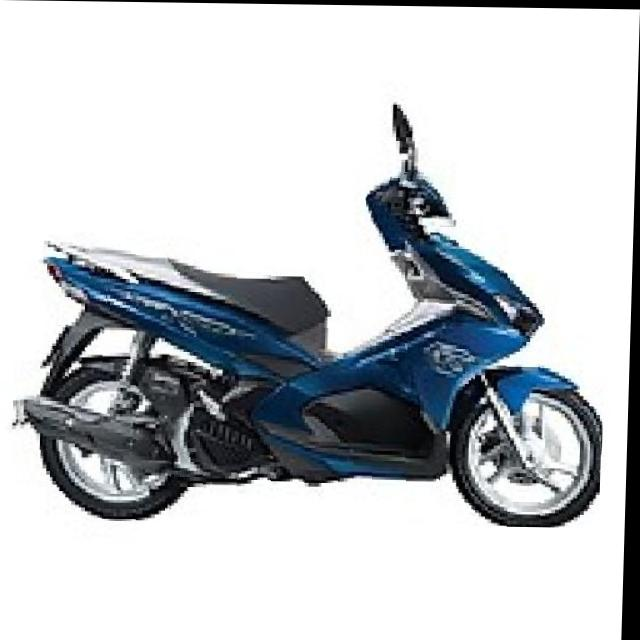All: (10, 162, 610, 527)
Head: (366, 169, 460, 224)
Tail: (39, 233, 111, 303)
